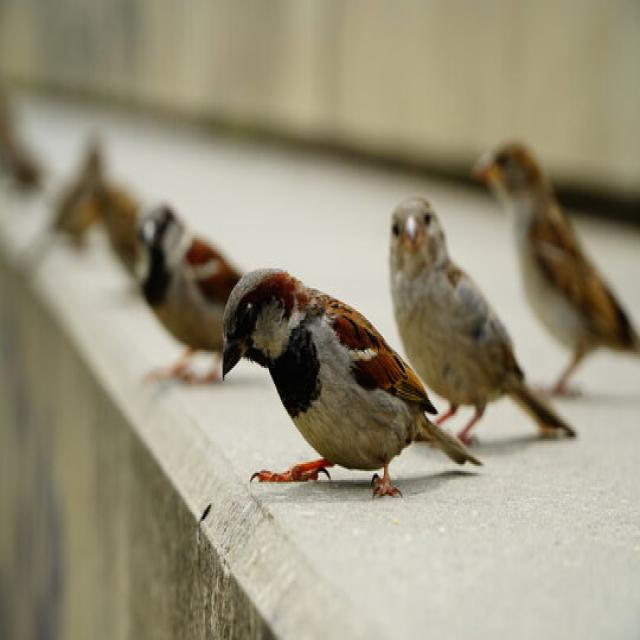bird: (225, 246, 484, 516), (386, 198, 576, 448), (471, 138, 640, 400)
